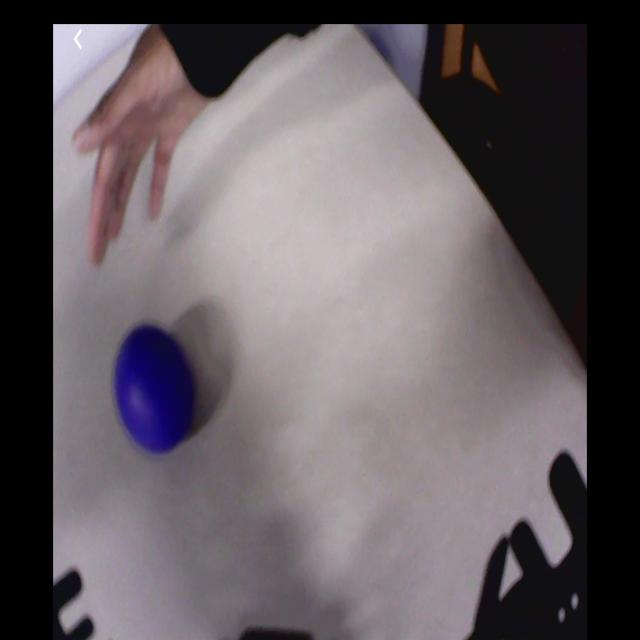ball: (115, 324, 196, 455)
